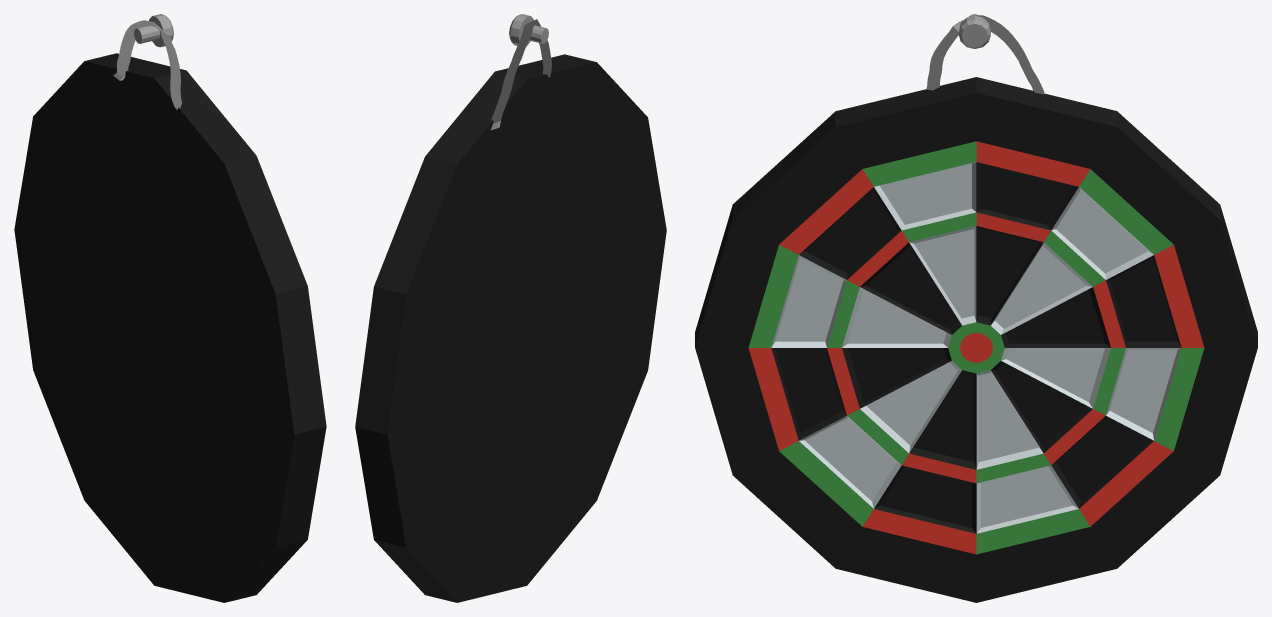
Rendered from dartboard.glb.
3 renders of one model, left to right at view 1: azimuth 30°, elevation 25°; view 2: azimuth 150°, elevation 25°; view 3: azimuth 270°, elevation 25°, orthographic.
Parts seen in each view (by area): view 1: Node; view 2: Node; view 3: Node.
Part boxes in pixels (<box>): Node: <box>14,14,326,602</box>; Node: <box>355,14,666,602</box>; Node: <box>695,14,1257,602</box>.
Bounding box in the file's own units: 0.1762 × 1.94 × 1.73.
